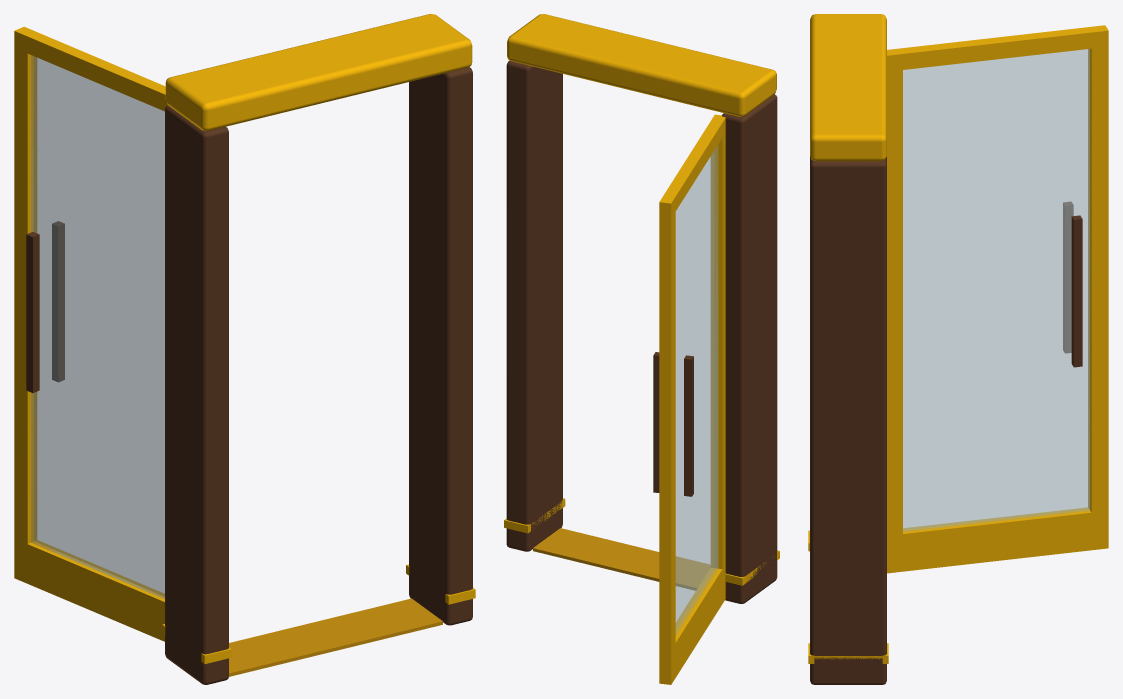
The model's file is wand_sockel_tuer.glb.
The picture shows the model from 3 angles, left to right: view 1: azimuth 30°, elevation 25°; view 2: azimuth 150°, elevation 25°; view 3: azimuth 270°, elevation 25°; orthographic projection. The views are drawn at different scales.
Visible parts, largest first — view 1: wand_sockel_tuer; view 2: wand_sockel_tuer; view 3: wand_sockel_tuer.
Boxes of the visible parts, <box> form: wand_sockel_tuer: <box>14,14,475,684</box>; wand_sockel_tuer: <box>504,14,779,684</box>; wand_sockel_tuer: <box>808,14,1108,684</box>.
Size of the model in its own units: 1.14 by 2.05 by 1.02.
